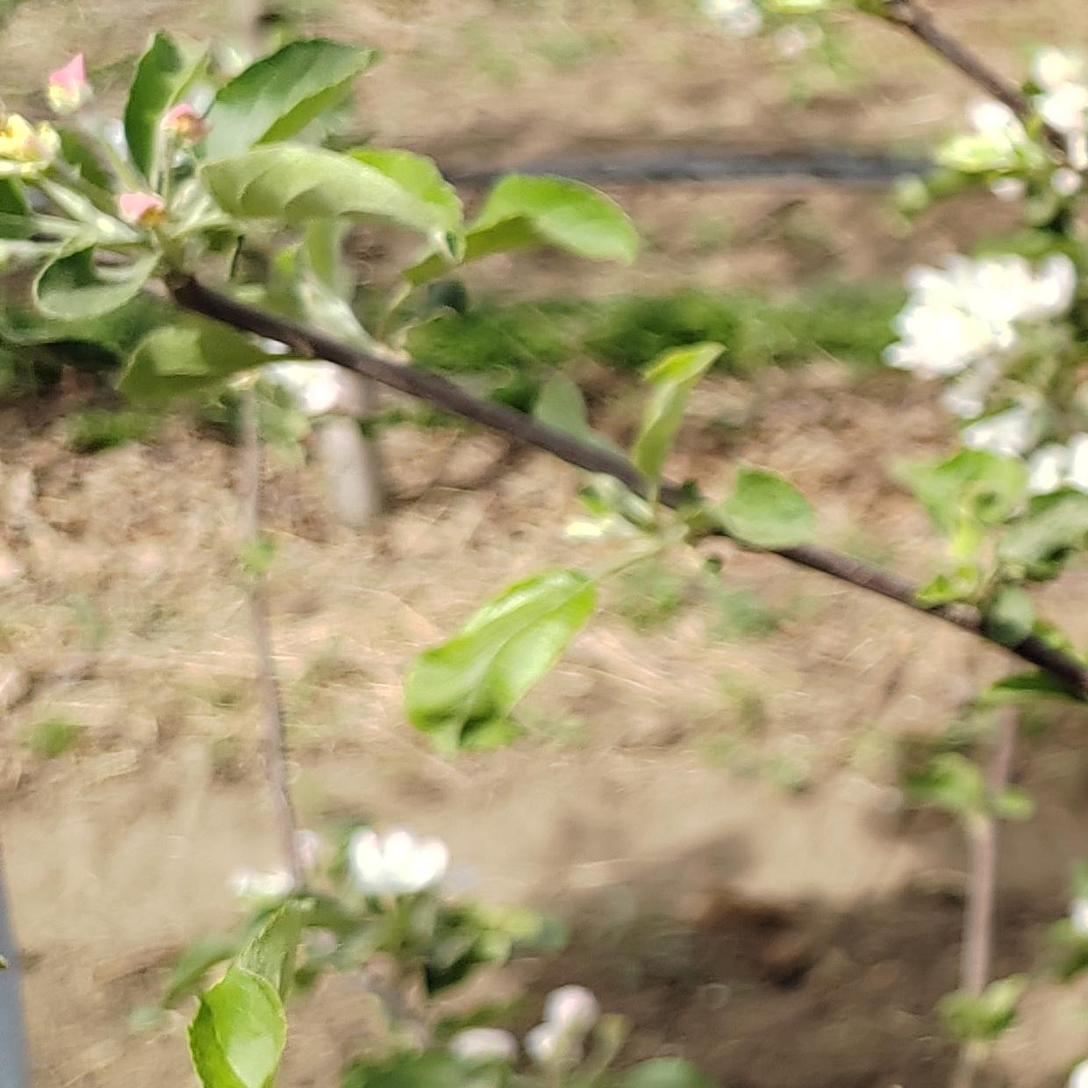apple_flower: (883, 254, 1074, 374)
